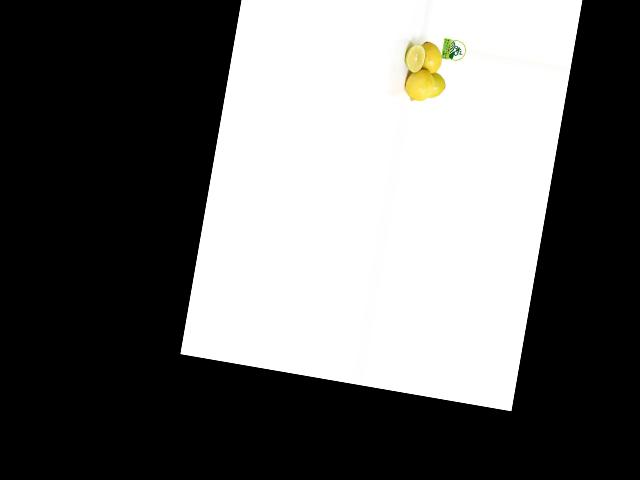lemon: (400, 67, 436, 106)
